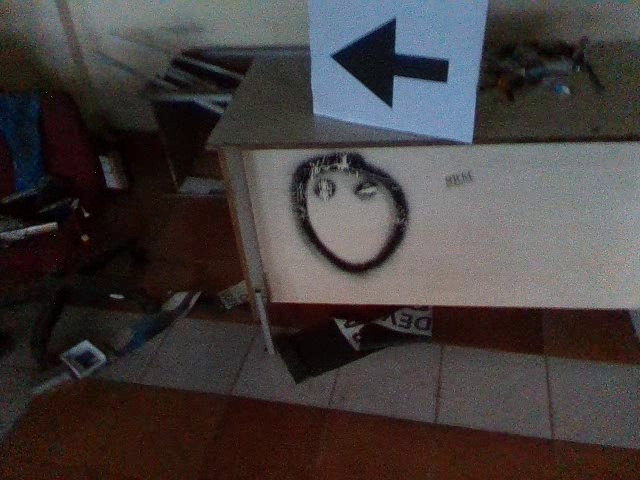Left: (328, 10, 454, 115)
